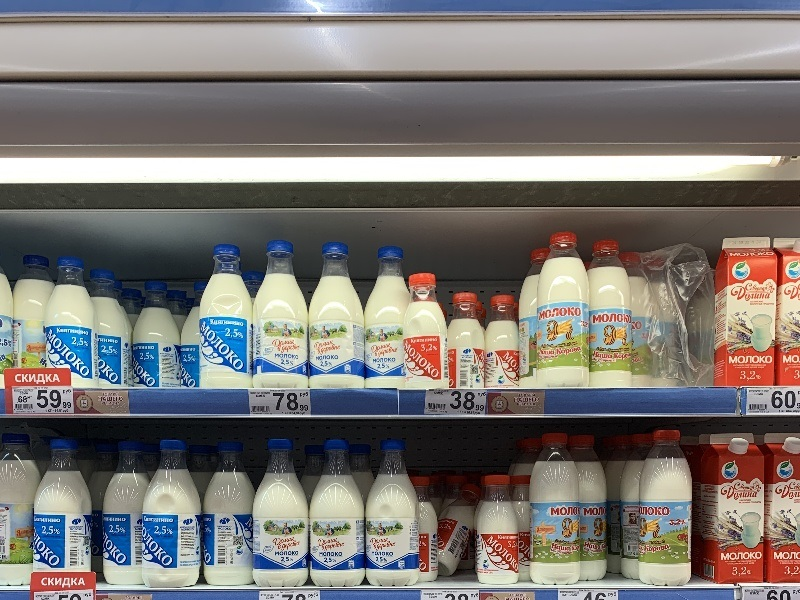milk: (710, 230, 787, 393), (137, 437, 208, 593), (701, 430, 769, 589), (532, 229, 598, 392), (303, 241, 372, 394), (192, 242, 260, 393), (305, 439, 373, 589), (250, 239, 314, 398), (247, 437, 315, 586), (526, 431, 590, 589), (198, 437, 264, 588), (637, 424, 697, 589), (363, 437, 425, 588), (37, 257, 105, 394), (31, 439, 97, 579), (584, 236, 635, 387), (397, 268, 456, 396), (469, 471, 522, 588)
